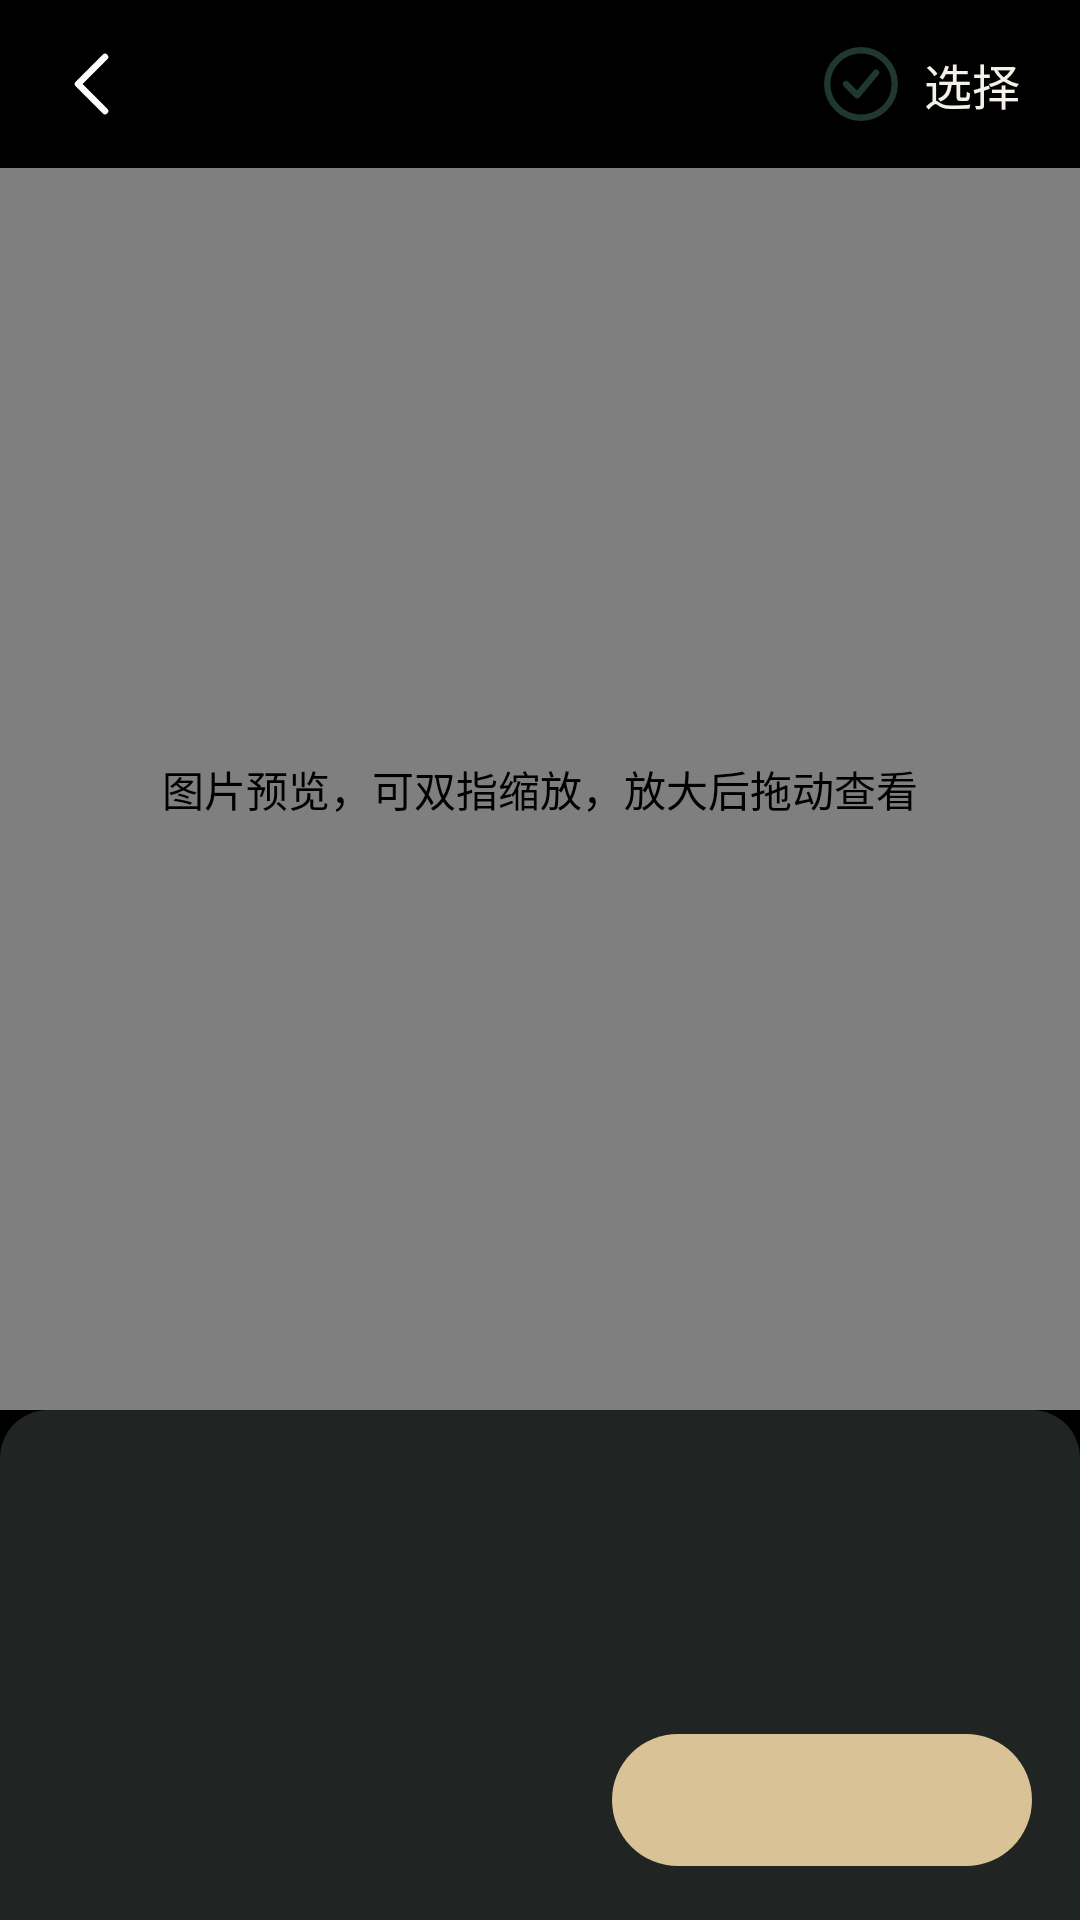

Where to tap for icons on this 1080w x 1920h app screen, as (x=x, y=y):
返回: (x=91, y=84)
